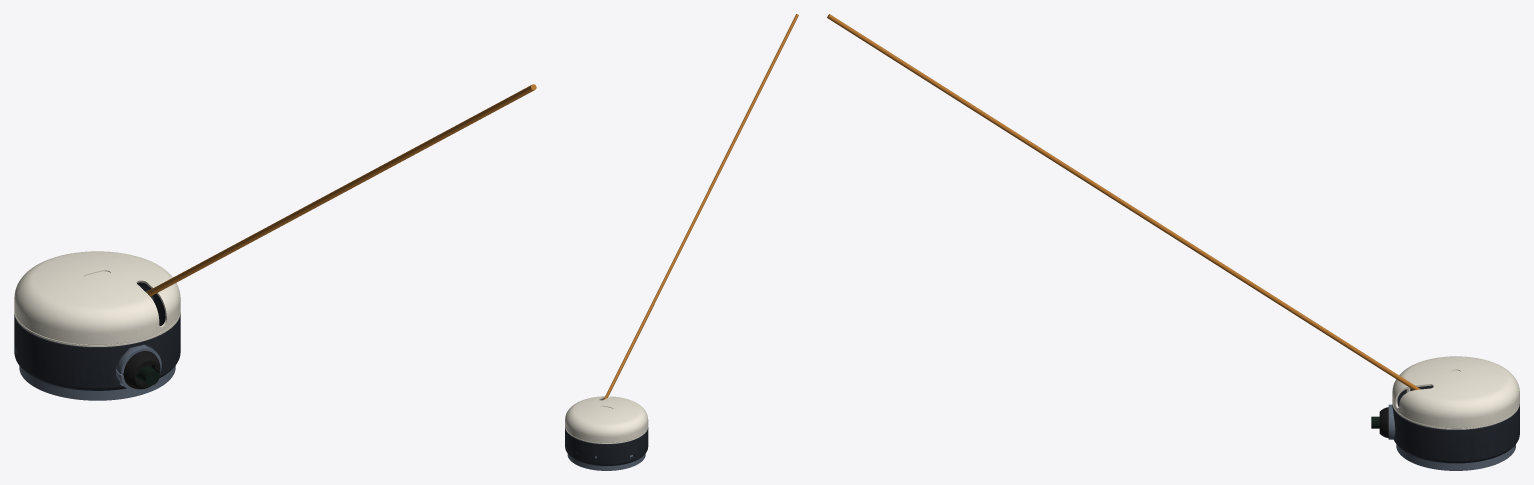
File: prekko-DQKpgTds.glb
The picture shows the model from 3 angles, left to right: view 1: azimuth 30°, elevation 25°; view 2: azimuth 150°, elevation 25°; view 3: azimuth 270°, elevation 25°; orthographic projection. The views are drawn at different scales.
Parts seen in each view (by area): view 1: cap_shell, base_ring, rod_mesh, floor_foot, eye_front; view 2: cap_shell, base_ring, rod_mesh, floor_foot; view 3: cap_shell, base_ring, rod_mesh, floor_foot.
Part boxes in pixels (x1,y1,x2,y2): cap_shell: [14, 251, 180, 346]; base_ring: [14, 282, 180, 390]; rod_mesh: [146, 84, 536, 296]; floor_foot: [19, 343, 175, 400]; eye_front: [122, 351, 160, 389]; cap_shell: [565, 396, 648, 443]; base_ring: [565, 427, 648, 465]; rod_mesh: [603, 14, 798, 399]; floor_foot: [567, 454, 645, 470]; cap_shell: [1392, 356, 1519, 429]; base_ring: [1392, 386, 1519, 463]; rod_mesh: [827, 14, 1420, 390]; floor_foot: [1396, 444, 1515, 470].
Bounding box in the file's own units: 0.17 × 0.65 × 0.9238.
